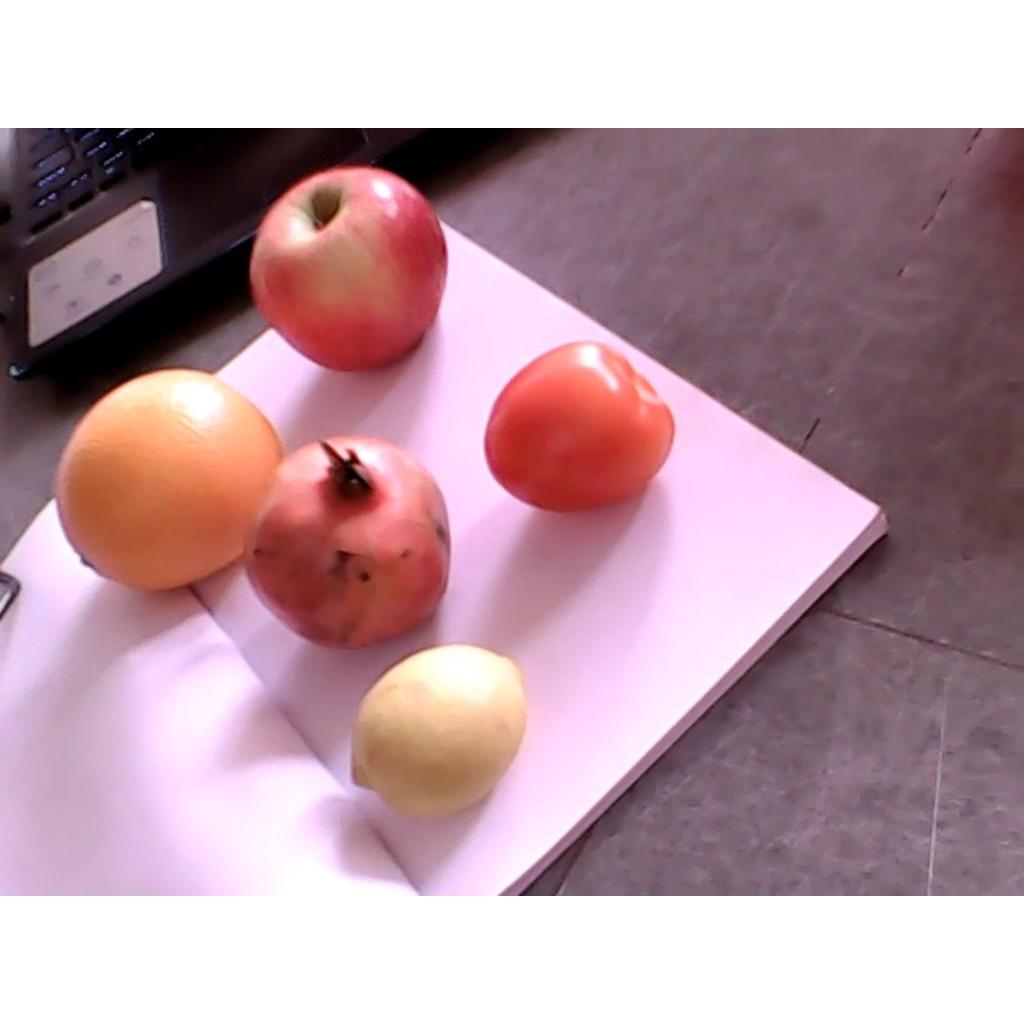apple: (244, 167, 443, 372)
lemon: (353, 641, 529, 825)
orange: (58, 370, 282, 591)
pomegranate: (243, 436, 452, 653)
tomato: (484, 342, 673, 514)
